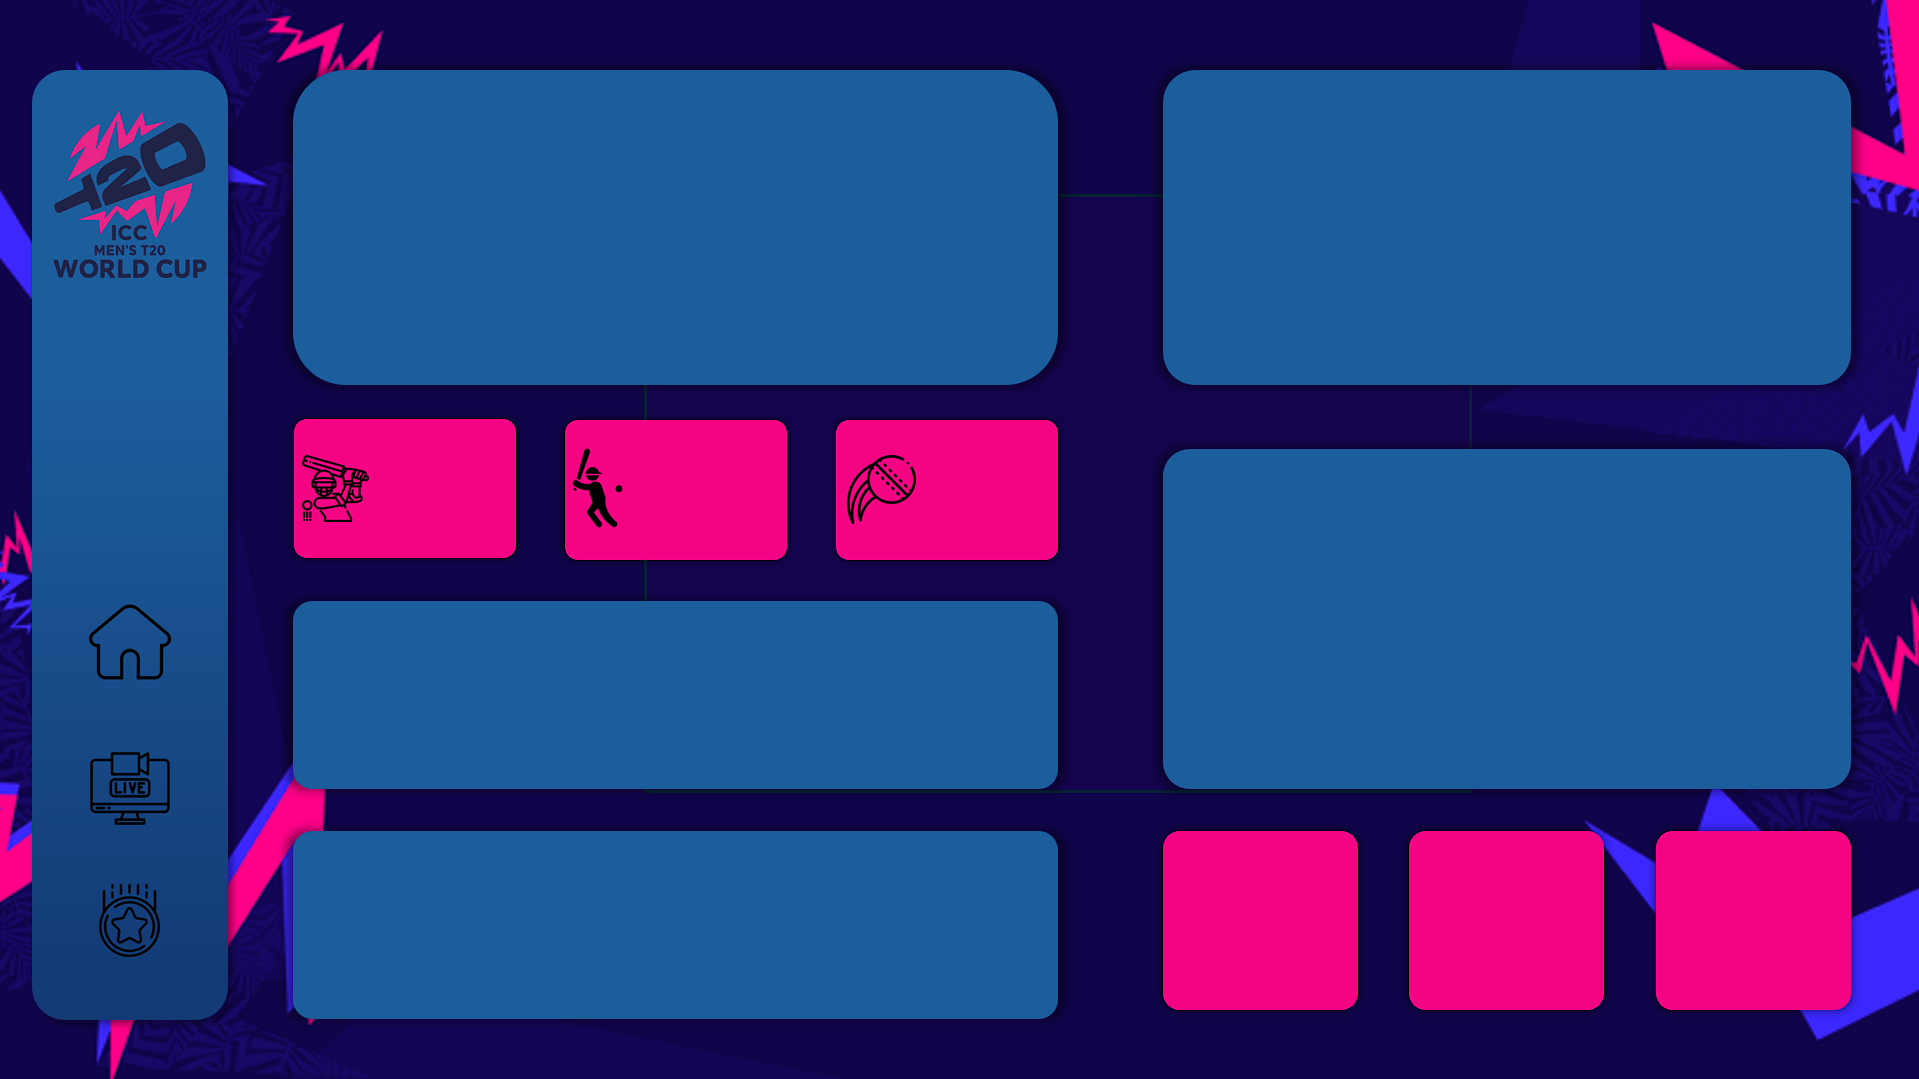

This screenshot's page, from the dashboard's own definition file:
{"tool":"powerbi","page":{"name":"Match Dashboard","canvas":[1280,720],"ordinal":1},"visuals":[{"type":"cardVisual","fields":{"Data":["Live Match Measures.Current Bowling Team Logo"]},"box":[774.3,22.9,258.6,238.6],"z":0},{"type":"cardVisual","fields":{"Data":["Live Match Measures.Current Batting Team Logo"]},"box":[205.7,22.9,262.9,238.6],"z":1000},{"type":"card","fields":{"Values":["Live Match Measures.Current_Score"]},"box":[543.4,142.9,138.4,51.7],"z":2000},{"type":"card","fields":{"Values":["Live Match Measures.Current Playing Team"]},"box":[483.7,82.1,224.2,74.3],"z":3000},{"type":"card","fields":{"Values":["Live Match Measures.Current Team RunRate"]},"box":[550.5,194.7,130.2,42.5],"z":4000},{"type":"cardVisual","fields":{"Data":["Live Match Measures.Current Batting Team Captain"]},"box":[128.6,0,467.1,261.4],"z":5000},{"type":"cardVisual","fields":{"Data":["Live Match Measures.Current Bowling Team Captain"]},"box":[667.1,7.1,444.3,250],"z":6000},{"type":"card","fields":{"Values":["Toss Info.Toss Decision"]},"box":[1048.6,155.7,185.7,41.4],"z":7000},{"type":"card","fields":{"Values":["Live Match Measures.Current Bowling Team"]},"box":[1032.5,81.2,211.2,75],"z":8000},{"type":"card","fields":{"Values":["Live Match Measures.Required Run Rate"]},"box":[1041.4,194.3,192.9,41.4],"z":9000},{"type":"card","fields":{"Values":["Max(Innings_Ref.Innings_Name)"]},"box":[560,49,146,43],"z":10000},{"type":"card","fields":{"Values":["Min(Innings_Ref.Innings_Name)"]},"box":[1102.9,48.6,130,42.9],"z":11000},{"type":"card","fields":{"Values":["Batsman Score.Total Sixes Currrent Innings"]},"box":[422.9,275.7,91.4,97.1],"z":12000},{"type":"card","fields":{"Values":["Batsman Score.Total Fours Currrent Innings"]},"box":[245.7,275.7,91.4,97.1],"z":13000},{"type":"card","fields":{"Values":["Batsman Score.Balls Played Currrent Innings"]},"box":[595.7,275.7,108.6,97.1],"z":14000},{"type":"tableEx","title":"Current Batsman Status","fields":{"Values":["Current Batsman Data.BatTeamSN","Current Batsman Data.BatsmanName","Sum(Current Batsman Data.Runs)","Sum(Current Batsman Data.Fours)","Sum(Current Batsman Data.Sixes)","Sum(Current Batsman Data.Twos)","Sum(Current Batsman Data.StrikeRate)"]},"box":[195,401,511,126],"z":15000},{"type":"tableEx","title":"Bowling Team Players","fields":{"Values":["Current Bowler Data.bowlTeamShortName","Current Bowler Data.BowlerName","Sum(Current Bowler Data.Runs)","Sum(Current Bowler Data.Wickets)","Sum(Current Bowler Data.Wides)","Sum(Current Bowler Data.Overs)","Sum(Current Bowler Data.Economy)"]},"box":[205.5,550.9,491.8,125.5],"z":16000},{"type":"pieChart","title":"Sixes Contribution","fields":{"Y":["Batsman Score.Total Sixes Currrent Innings"],"Category":["Batsman Score.BatsmanName"]},"box":[775.6,555.8,129.1,116.3],"z":17000},{"type":"pieChart","title":"Fours Contribution","fields":{"Category":["Batsman Score.BatsmanName"],"Y":["Batsman Score.Total Fours Currrent Innings"]},"box":[939.5,555.8,129.1,116.3],"z":18000},{"type":"pieChart","title":"Wickets Contribution","fields":{"Y":["Sum(Current Bowler Data.Wickets)"],"Category":["Current Bowler Data.BowlerName"]},"box":[1105.8,555.8,129.1,116.3],"z":19000},{"type":"tableEx","title":"Batsman Details","fields":{"Values":["Batsman Score.BatTeamSN","Batsman Score.BatsmanName","Sum(Batsman Score.Runs)","Sum(Batsman Score.Fours)","Sum(Batsman Score.Sixes)","Sum(Batsman Score.StrikeRate)"]},"box":[774.4,298.9,461.1,227.8],"z":20000},{"type":"advancedSlicerVisual","fields":{"Values":["Batsman Score.BatTeamName"]},"box":[985.7,261.4,250,52.9],"z":21000},{"type":"actionButton","box":[40,390,100,85.6],"z":22000},{"type":"actionButton","box":[40,571.7,100,85],"z":23000}]}

Visuals, with their boxes in screenshot pixels (x1, y1, x2, y2), scaled from the page's 1280x720 canvas onto the 1919x1079 screenshot:
cardVisual - Live Match Measures.Current Bowling Team Logo: (left=1161, top=34, right=1549, bottom=392)
cardVisual - Live Match Measures.Current Batting Team Logo: (left=308, top=34, right=703, bottom=392)
card - Live Match Measures.Current_Score: (left=815, top=214, right=1022, bottom=292)
card - Live Match Measures.Current Playing Team: (left=725, top=123, right=1061, bottom=234)
card - Live Match Measures.Current Team RunRate: (left=825, top=292, right=1021, bottom=355)
cardVisual - Live Match Measures.Current Batting Team Captain: (left=193, top=0, right=893, bottom=392)
cardVisual - Live Match Measures.Current Bowling Team Captain: (left=1000, top=11, right=1666, bottom=385)
card - Toss Info.Toss Decision: (left=1572, top=233, right=1850, bottom=295)
card - Live Match Measures.Current Bowling Team: (left=1548, top=122, right=1865, bottom=234)
card - Live Match Measures.Required Run Rate: (left=1561, top=291, right=1850, bottom=353)
card - Max(Innings_Ref.Innings_Name): (left=840, top=73, right=1058, bottom=138)
card - Min(Innings_Ref.Innings_Name): (left=1653, top=73, right=1848, bottom=137)
card - Batsman Score.Total Sixes Currrent Innings: (left=634, top=413, right=771, bottom=559)
card - Batsman Score.Total Fours Currrent Innings: (left=368, top=413, right=505, bottom=559)
card - Batsman Score.Balls Played Currrent Innings: (left=893, top=413, right=1056, bottom=559)
"Current Batsman Status" tableEx: (left=292, top=601, right=1058, bottom=790)
"Bowling Team Players" tableEx: (left=308, top=826, right=1045, bottom=1014)
"Sixes Contribution" pieChart: (left=1163, top=833, right=1356, bottom=1007)
"Fours Contribution" pieChart: (left=1409, top=833, right=1602, bottom=1007)
"Wickets Contribution" pieChart: (left=1658, top=833, right=1851, bottom=1007)
"Batsman Details" tableEx: (left=1161, top=448, right=1852, bottom=789)
advancedSlicerVisual - Batsman Score.BatTeamName: (left=1478, top=392, right=1853, bottom=471)
actionButton: (left=60, top=584, right=210, bottom=713)
actionButton: (left=60, top=857, right=210, bottom=984)
